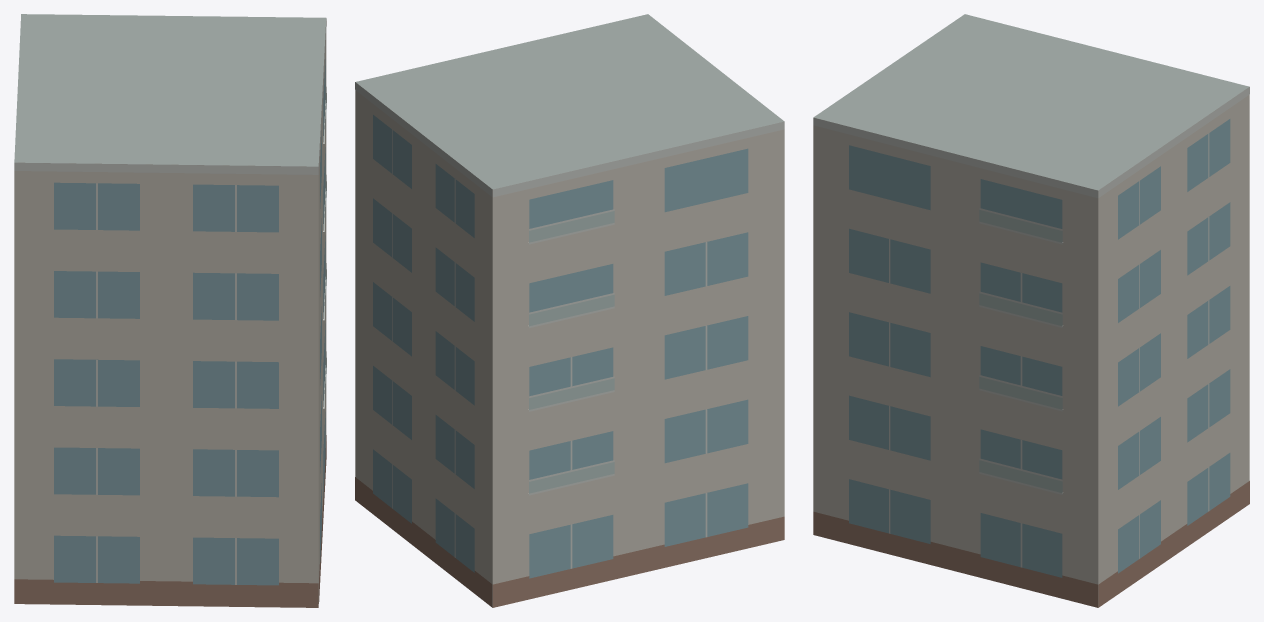
File: survey-upis-32919056.glb
The picture shows the model from 3 angles, left to right: view 1: azimuth 30°, elevation 25°; view 2: azimuth 150°, elevation 25°; view 3: azimuth 270°, elevation 25°; orthographic projection. The views are drawn at different scales.
Visible parts, largest first — view 1: survey-upis-32919056.tmp; view 2: survey-upis-32919056.tmp; view 3: survey-upis-32919056.tmp.
Boxes of the visible parts, x1=… form: survey-upis-32919056.tmp: x1=14, y1=14, x2=326, y2=607; survey-upis-32919056.tmp: x1=355, y1=14, x2=784, y2=607; survey-upis-32919056.tmp: x1=813, y1=14, x2=1249, y2=607.
Size of the model in its own units: 11.78 by 12.98 by 12.31.
